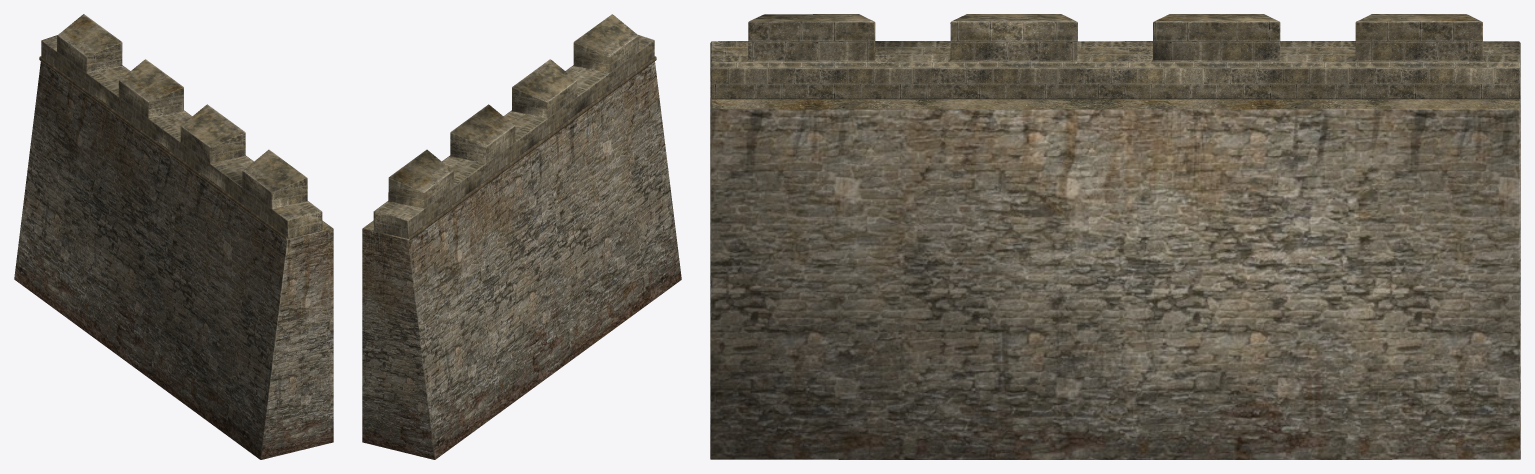
The model's file is modular_fort_wall.glb.
The picture shows the model from 3 angles, left to right: view 1: azimuth 30°, elevation 25°; view 2: azimuth 150°, elevation 25°; view 3: azimuth 270°, elevation 25°; orthographic projection. The views are drawn at different scales.
Visible parts, largest first — view 1: modular_fort_01_wall_thin_straight_01; view 2: modular_fort_01_wall_thin_straight_01; view 3: modular_fort_01_wall_thin_straight_01.
Part boxes in pixels (bbox=[...]): modular_fort_01_wall_thin_straight_01: bbox=[14, 14, 333, 459]; modular_fort_01_wall_thin_straight_01: bbox=[362, 14, 681, 459]; modular_fort_01_wall_thin_straight_01: bbox=[710, 14, 1520, 459].
Bounding box in the file's own units: 2.55 × 8.61 × 14.82.
2 materials, 2 textured.
